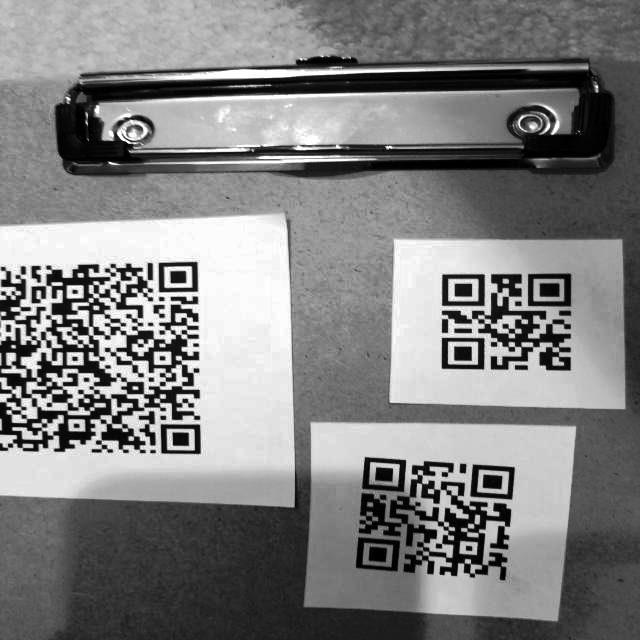qr_code: (3, 242, 214, 461), (343, 448, 521, 593), (423, 260, 584, 379)
